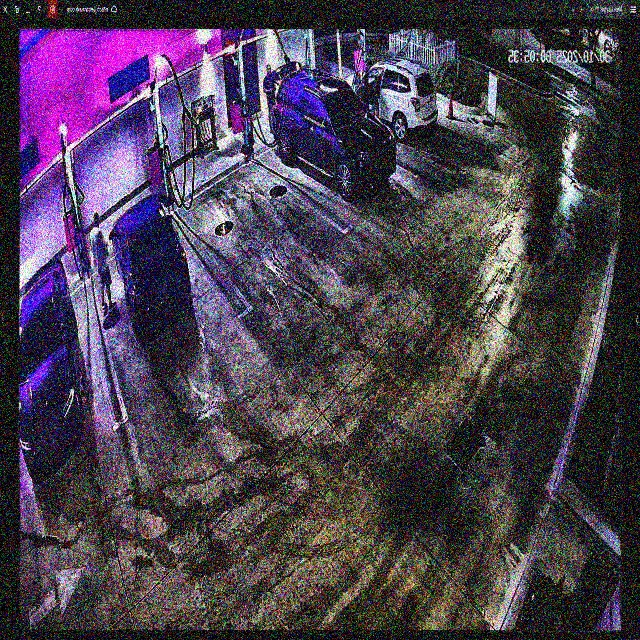Car: (272, 68, 396, 197), (109, 192, 191, 339)
